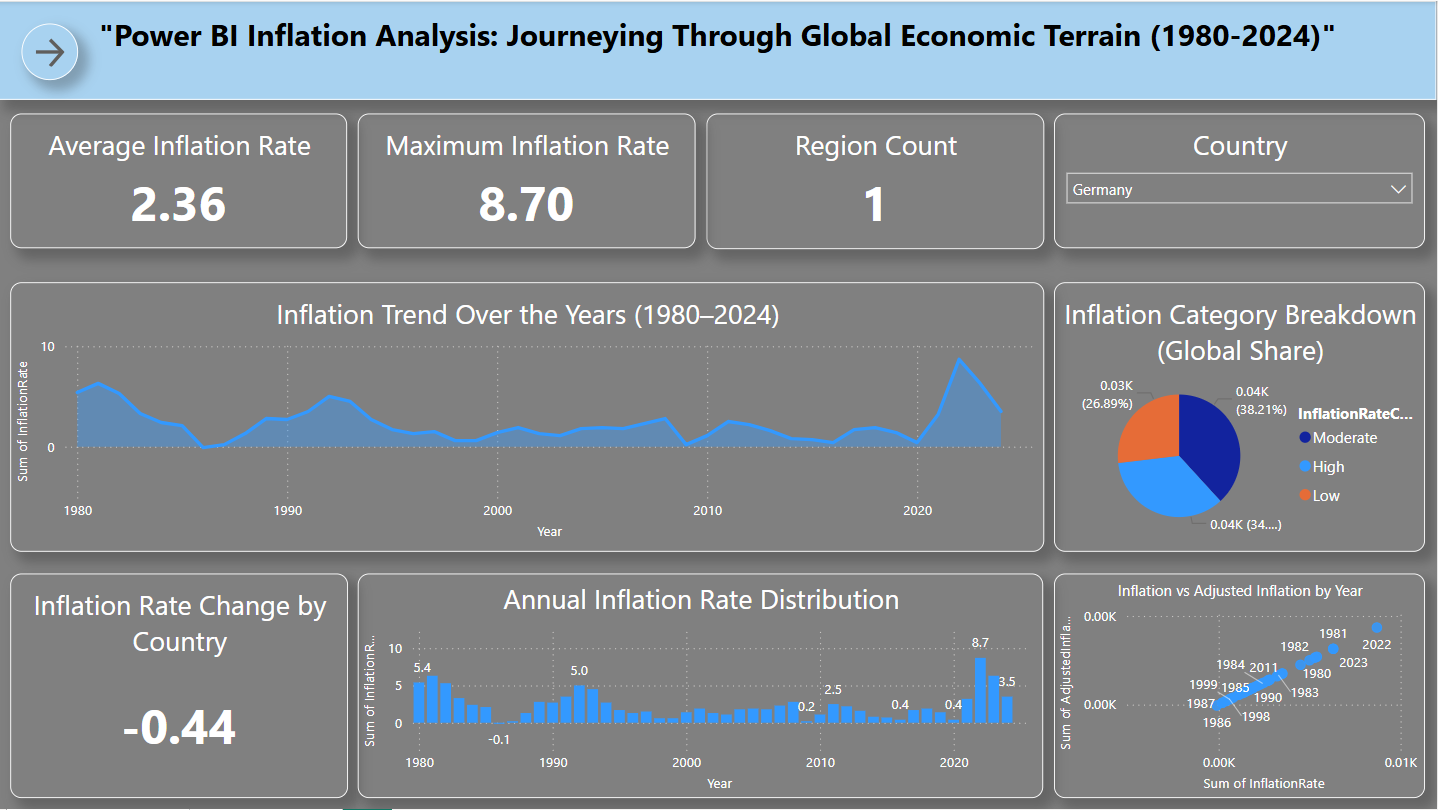

The dashboard page shown, as its layout file describes it:
{"tool":"powerbi","page":{"name":"Page 1 - Dashboard","canvas":[1280,720],"ordinal":0},"visuals":[{"type":"textbox","box":[0,0,1280.3,88],"z":0},{"type":"card","title":"Average Inflation Rate","fields":{"Values":["Avg(GlobalInflationData.InflationRate)"]},"box":[10,100,300,120],"z":1000},{"type":"card","title":"Region Count","fields":{"Values":["Count(GlobalInflationData.Region)"]},"box":[630,100,300.4,120.6],"z":2000},{"type":"card","title":"Maximum Inflation Rate","fields":{"Values":["Max(GlobalInflationData.InflationRate)"]},"box":[320,100,300.4,120],"z":3000},{"type":"slicer","title":"Country","fields":{"Values":["GlobalInflationData.CountryName"]},"box":[940,100,330,120],"z":4000},{"type":"lineChart","title":"Inflation Trend Over the Years (1980–2024)","fields":{"Category":["GlobalInflationData.Year"],"Y":["Sum(GlobalInflationData.InflationRate)"]},"box":[10,250,920.5,240.1],"z":5000},{"type":"pieChart","title":"Inflation Category Breakdown (Global Share)","fields":{"Category":["GlobalInflationData.InflationRateCategory"],"Y":["Sum(GlobalInflationData.InflationRate)"]},"box":[940,250,330.6,240.1],"z":6000},{"type":"card","title":"Inflation Rate Change by Country","fields":{"Values":["GlobalInflationData.InflationRateChange"]},"box":[10,510,300.4,200],"z":7000},{"type":"columnChart","title":"Annual Inflation Rate Distribution","fields":{"Category":["GlobalInflationData.Year"],"Y":["Sum(GlobalInflationData.InflationRate)"]},"box":[320,510.3,610.5,200.3],"z":8000},{"type":"scatterChart","title":"Inflation vs Adjusted Inflation by Year","fields":{"Category":["GlobalInflationData.Year"],"X":["Sum(GlobalInflationData.InflationRate)"],"Y":["Sum(GlobalInflationData.AdjustedInflationRate)"]},"box":[940,510,330,200],"z":9000},{"type":"actionButton","box":[20,20,50,50],"z":10000}]}

Visuals, with their boxes in screenshot pixels (x1, y1, x2, y2), scaled from the page's 1280x720 canvas onto the 1438x810 screenshot:
textbox: detection(0, 0, 1437, 99)
"Average Inflation Rate" card: detection(11, 112, 348, 248)
"Region Count" card: detection(708, 112, 1045, 248)
"Maximum Inflation Rate" card: detection(360, 112, 697, 248)
"Country" slicer: detection(1056, 112, 1427, 248)
"Inflation Trend Over the Years (1980–2024)" lineChart: detection(11, 281, 1045, 551)
"Inflation Category Breakdown (Global Share)" pieChart: detection(1056, 281, 1427, 551)
"Inflation Rate Change by Country" card: detection(11, 574, 349, 799)
"Annual Inflation Rate Distribution" columnChart: detection(360, 574, 1045, 799)
"Inflation vs Adjusted Inflation by Year" scatterChart: detection(1056, 574, 1427, 799)
actionButton: detection(22, 22, 79, 79)
